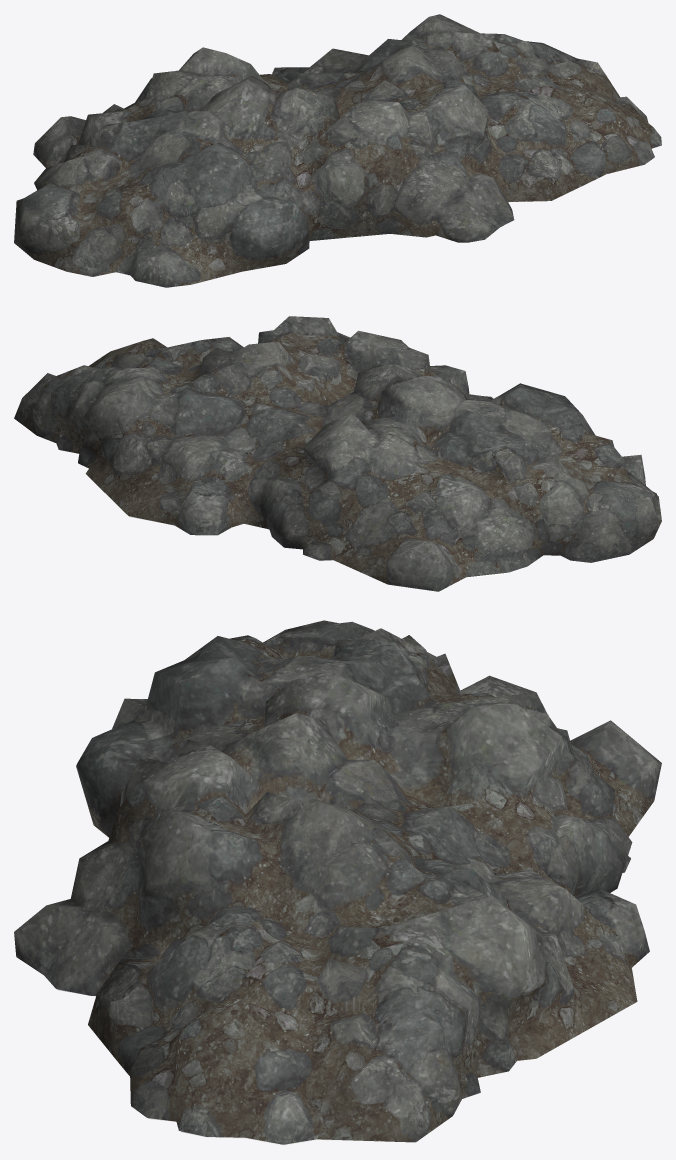
File: objects_un_a_w23fallenstone01.gltf
3 renders of one model, top to bottom at view 1: azimuth 30°, elevation 25°; view 2: azimuth 150°, elevation 25°; view 3: azimuth 270°, elevation 25°, orthographic. The views are drawn at different scales.
Visible parts, largest first — view 1: um_objects_un_a_w23fallenstone01_model_lod0Shape:objects_un_; view 2: um_objects_un_a_w23fallenstone01_model_lod0Shape:objects_un_; view 3: um_objects_un_a_w23fallenstone01_model_lod0Shape:objects_un_.
Boxes of the visible parts, x1,y1,x2,y2 form: um_objects_un_a_w23fallenstone01_model_lod0Shape:objects_un_: (14, 14, 661, 287); um_objects_un_a_w23fallenstone01_model_lod0Shape:objects_un_: (14, 316, 661, 591); um_objects_un_a_w23fallenstone01_model_lod0Shape:objects_un_: (14, 620, 661, 1144).
Size of what is drawn, in the model's own units: 28.61 by 5.23 by 16.76.
Materials: 2 (1 with a texture image).
